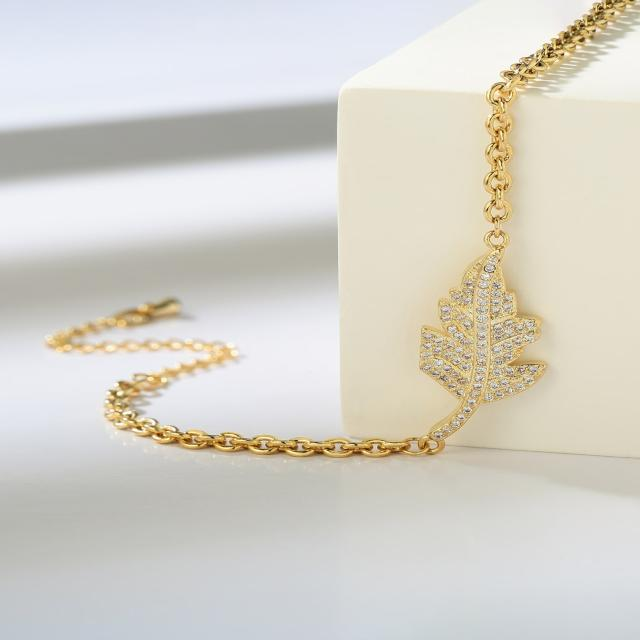bracelet: (2, 0, 640, 583)
